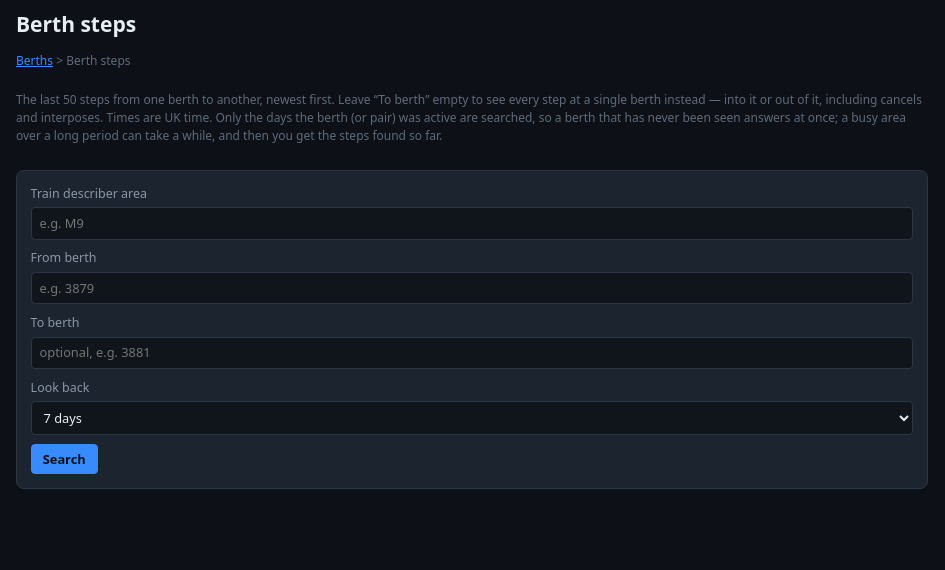
Test: BerthStepsPage (owner request 2026-09-22) › says so when a single berth has no steps
Type "M9" into the field labelled "Train describer area" at (472, 224), box [31,207,913,240]
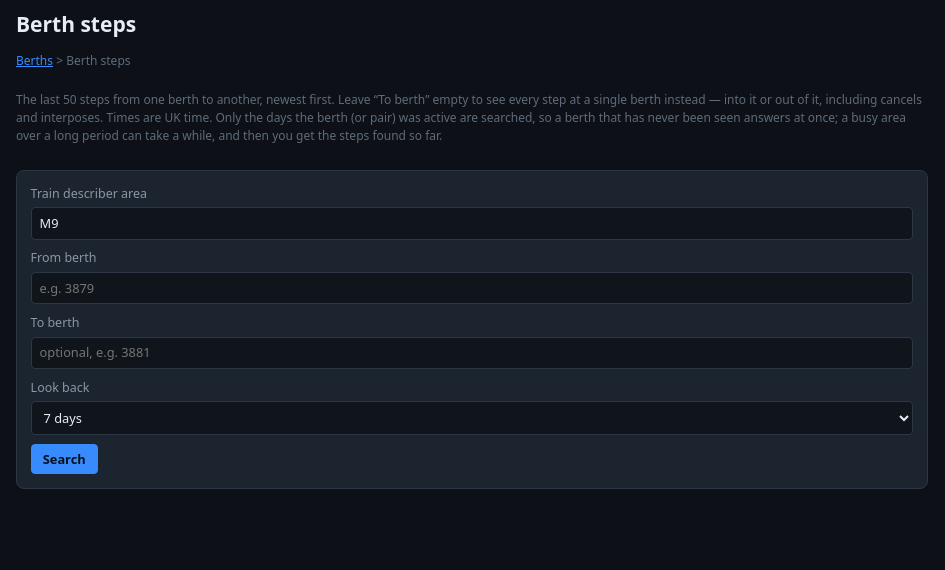
Type "ZZZZ" into the field labelled "From berth" at (472, 288), box [31,272,913,304]
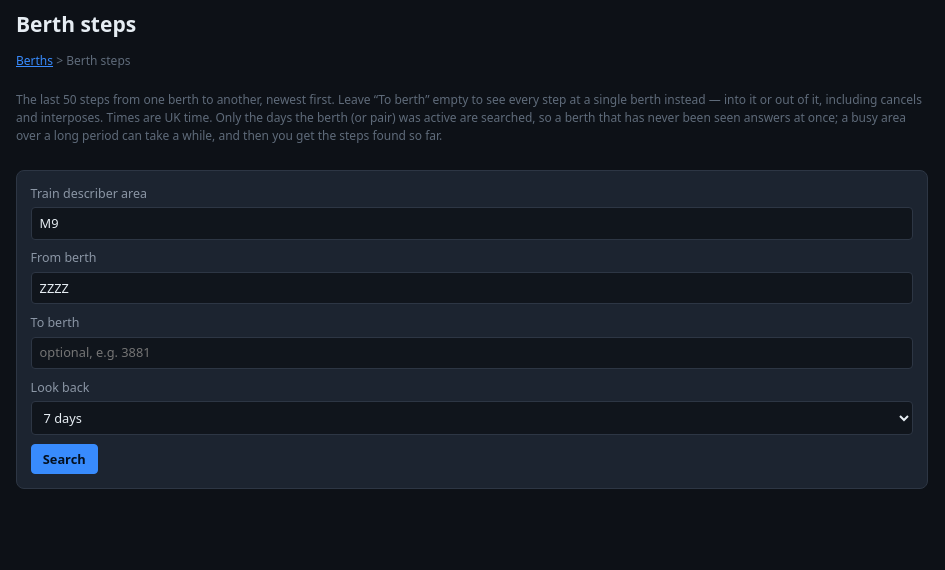
Click the button "Search" at (64, 459), box [31,444,98,474]
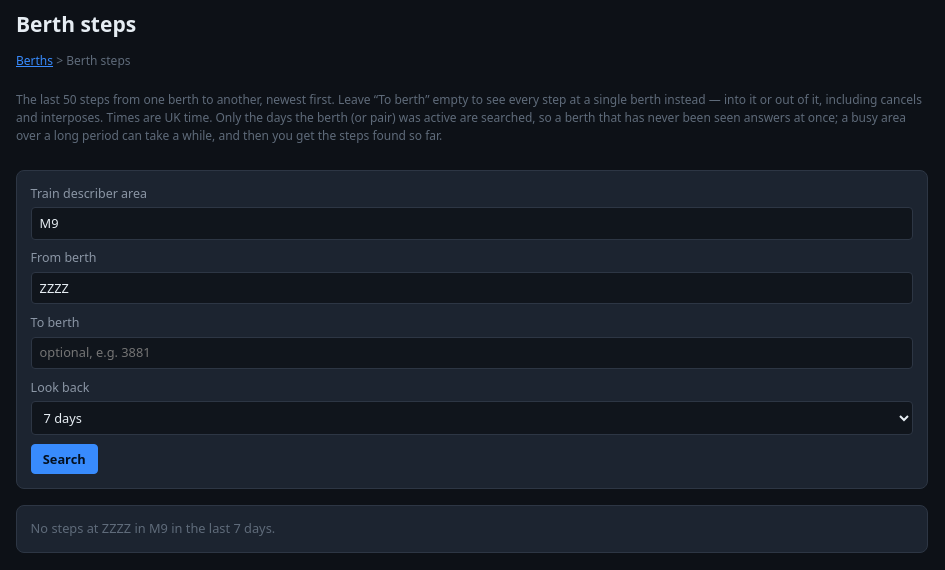
Now the text "No steps at ZZZZ in M9 in the last 7 days." is shown, box [16,505,928,553]
